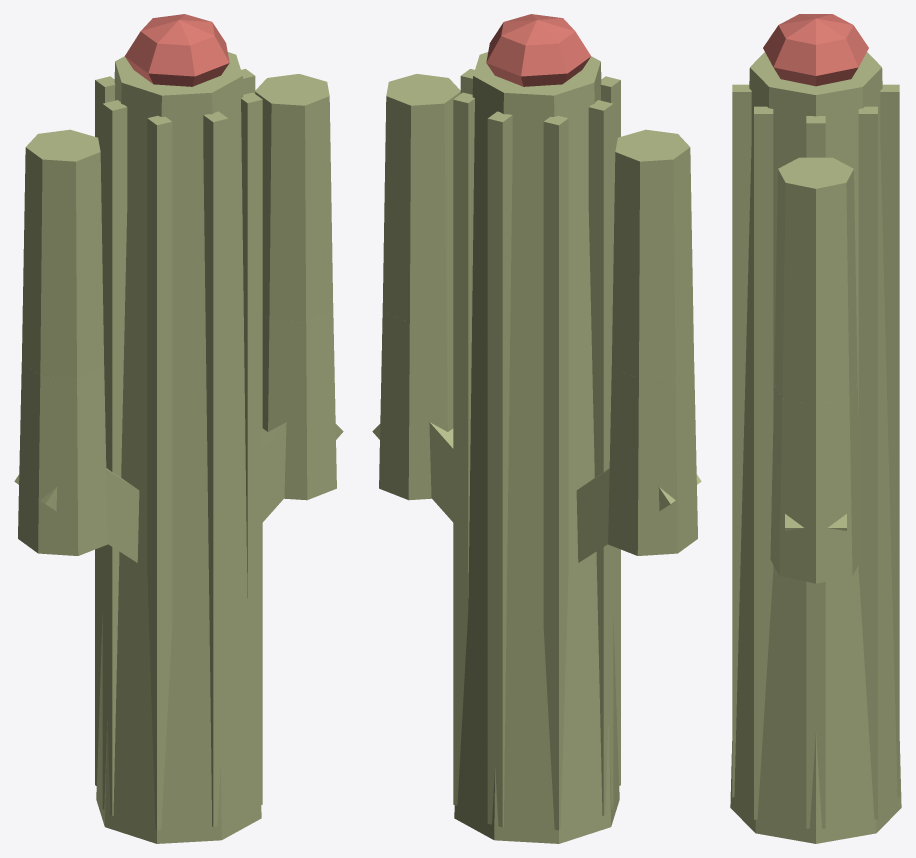
Rendered from andean-terraces-and-stone-village-column-cactus-fdecf9b8__38233.glb.
3 views of the same model, side by side, from view 1: azimuth 30°, elevation 25°; view 2: azimuth 150°, elevation 25°; view 3: azimuth 270°, elevation 25° (orthographic).
Parts seen in each view (by area): view 1: column-cactus-grass, column-cactus-cloth; view 2: column-cactus-grass, column-cactus-cloth; view 3: column-cactus-grass, column-cactus-cloth.
Part boxes in pixels (bbox=[...]): column-cactus-grass: bbox=[14, 52, 343, 843]; column-cactus-cloth: bbox=[125, 14, 229, 86]; column-cactus-grass: bbox=[372, 52, 701, 843]; column-cactus-cloth: bbox=[486, 14, 590, 86]; column-cactus-grass: bbox=[730, 52, 901, 843]; column-cactus-cloth: bbox=[763, 14, 868, 86].
Bounding box in the file's own units: 0.9081 × 2.24 × 0.4399.
